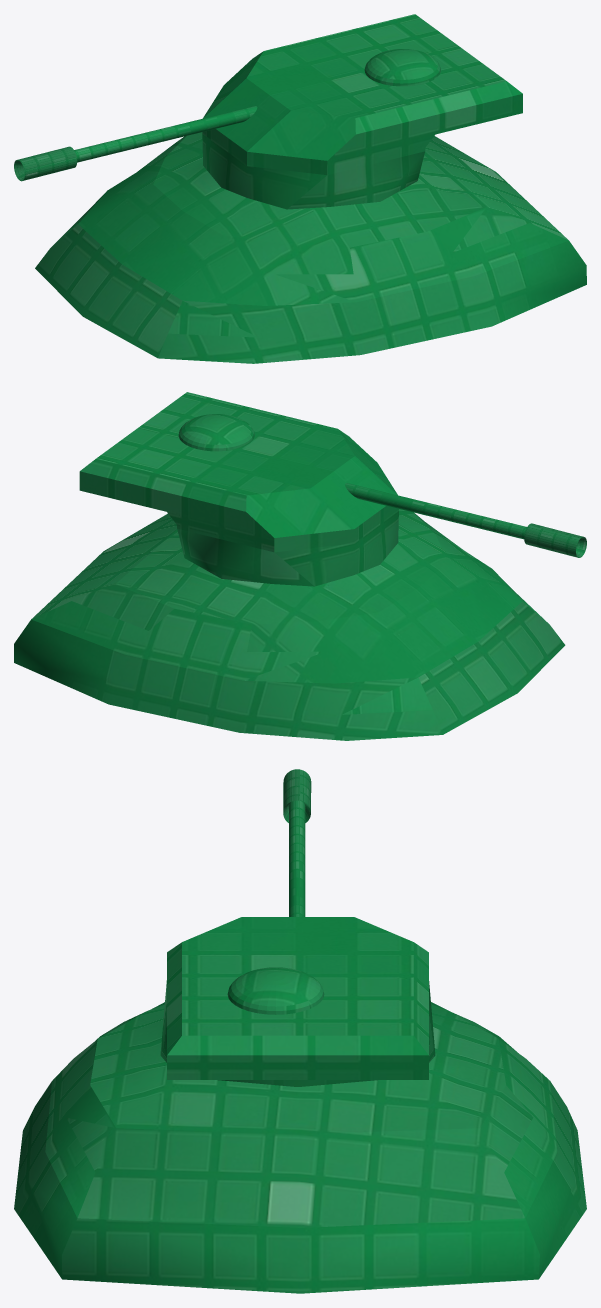
The model's file is tradeFederationTank2.obj.
The picture shows the model from 3 angles, top to bottom: view 1: azimuth 30°, elevation 25°; view 2: azimuth 150°, elevation 25°; view 3: azimuth 270°, elevation 25°; orthographic projection. The views are drawn at different scales.
Visible parts, largest first — view 1: Cube_Cube.001, Plane; view 2: Cube_Cube.001, Plane; view 3: Cube_Cube.001, Plane.
Part boxes in pixels (x1=…): Cube_Cube.001: x1=35, y1=14, x2=586, y2=363; Plane: x1=14, y1=106, x2=257, y2=181; Cube_Cube.001: x1=14, y1=392, x2=565, y2=740; Plane: x1=345, y1=483, x2=586, y2=557; Cube_Cube.001: x1=14, y1=917, x2=586, y2=1293; Plane: x1=283, y1=769, x2=311, y2=916.
Bounding box in the file's own units: 15 × 5.5 × 11.82.
Materials: 2 (2 with a texture image).
